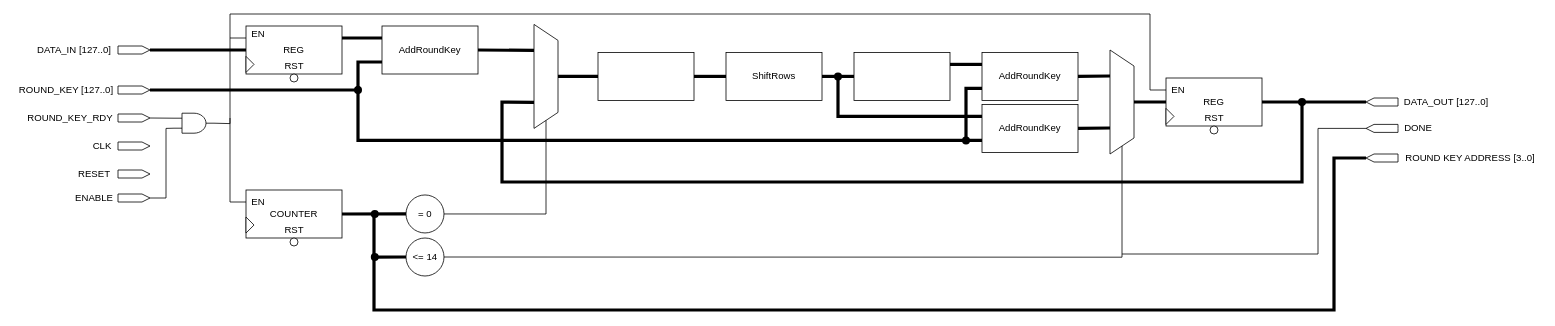
Image size: 1555x326. Some labels were removed from this diagram. Each missing label, with the centre of its shape:
"MixColumns" goes at (901,76).
"SubBytes" goes at (645,76).
